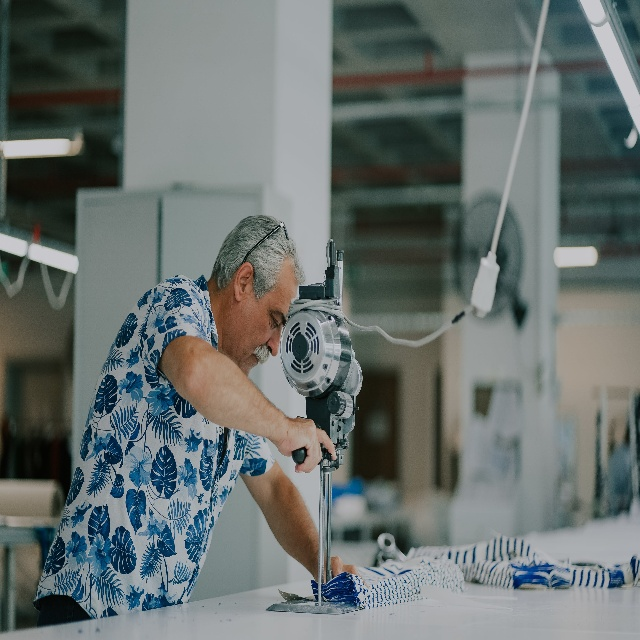Sin_guantes: (276, 417, 338, 473), (315, 556, 370, 591)
